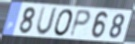6: (91, 10, 109, 40)
8: (19, 6, 37, 35), (109, 13, 126, 39)
O: (53, 8, 74, 37)
P: (68, 8, 93, 39)
U: (34, 6, 59, 37)
